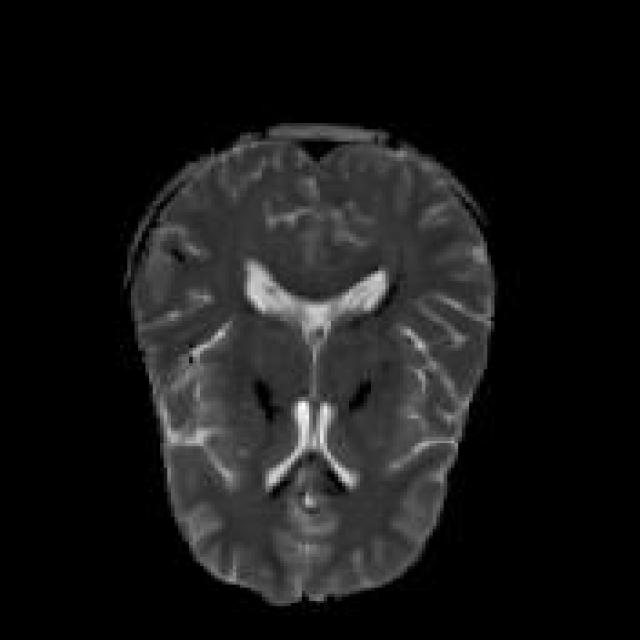CONTROL: (120, 120, 498, 606)
